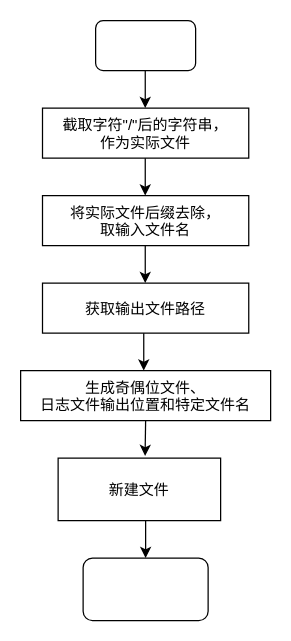
This 291x641 diagram has some shape labels left out. The centre of each missing label's shape, as x and y in pixels:
开始: [145,45]
结束: [145,589]
